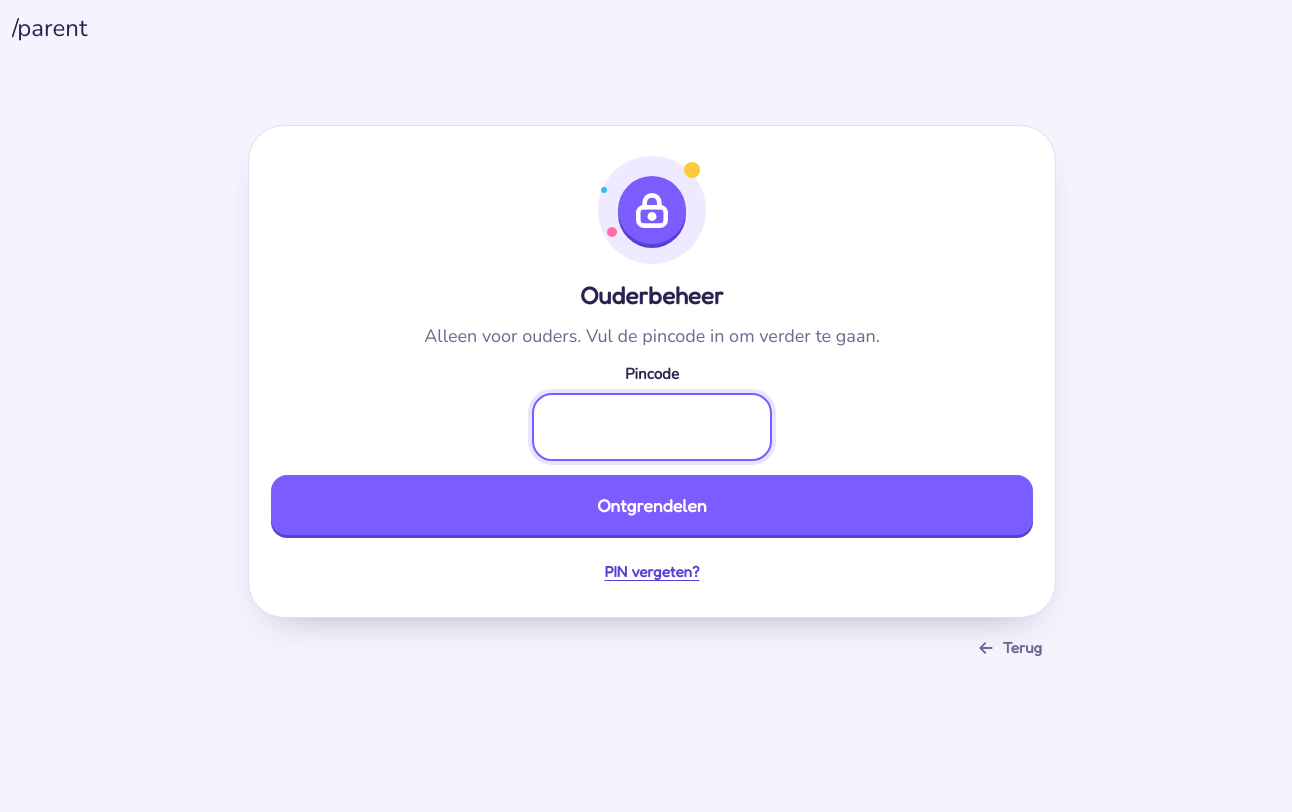
Test case: ouderslot › vraagt om de PIN van de meegegeven opslag en ontgrendelt met de juiste
The width and height of the screenshot is (1292, 812).
Type "1111" into the password field labelled "Pincode" at (652, 428), box [532,394,772,462]
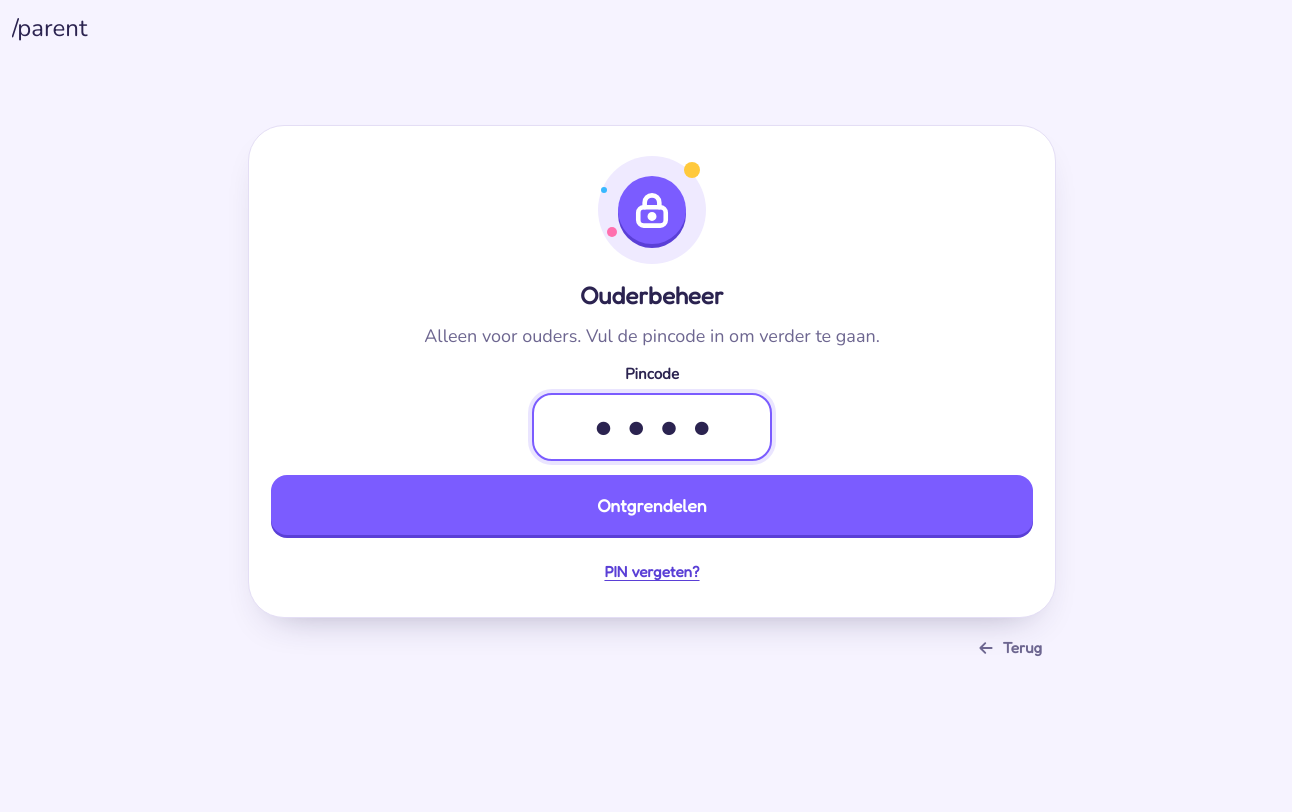
Click the button "Ontgrendelen" at (652, 506), box [271,476,1033,536]
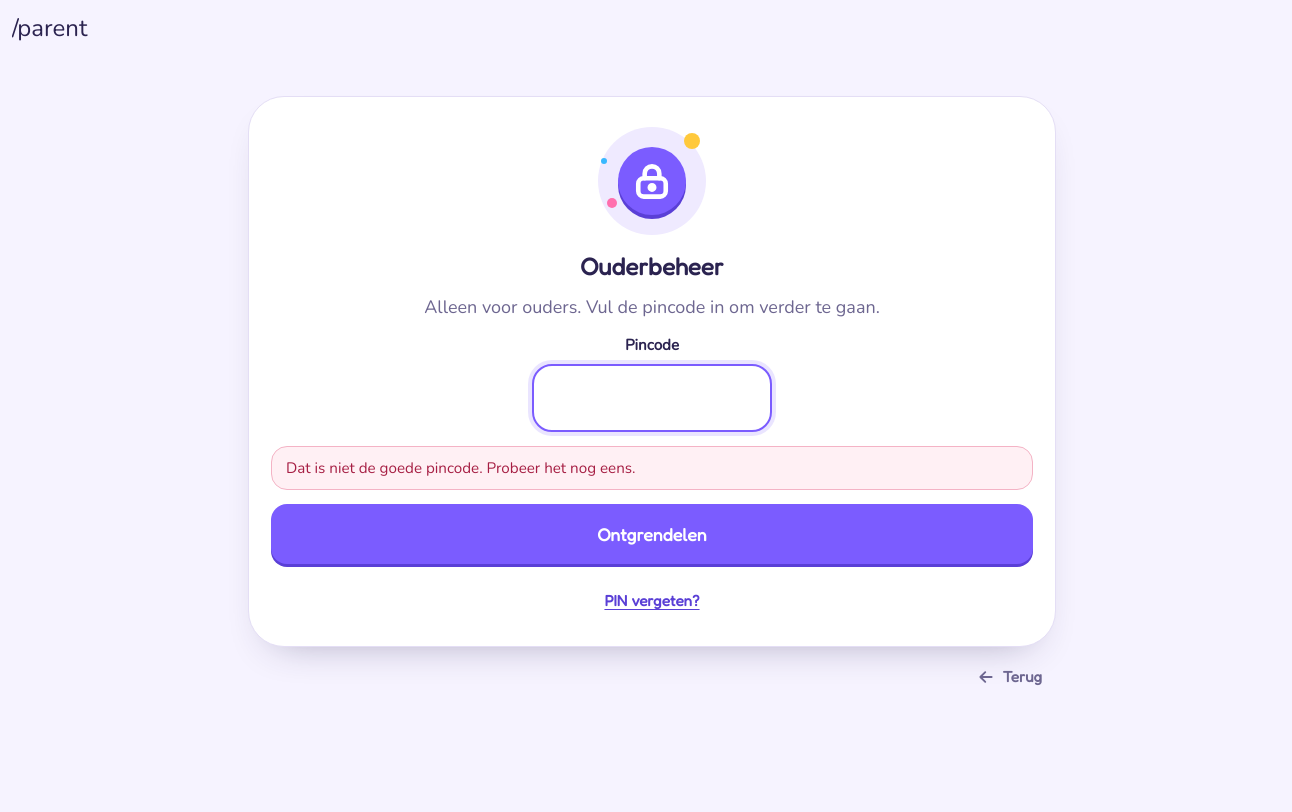
Expected: the button "Kleding toevoegen" is not shown
Result: the text "Dat is niet de goede pincode. Probeer het nog eens." is shown at [271,446,1033,490]
Type "2580" into the password field labelled "Pincode" at (652, 398), box [532,364,772,432]
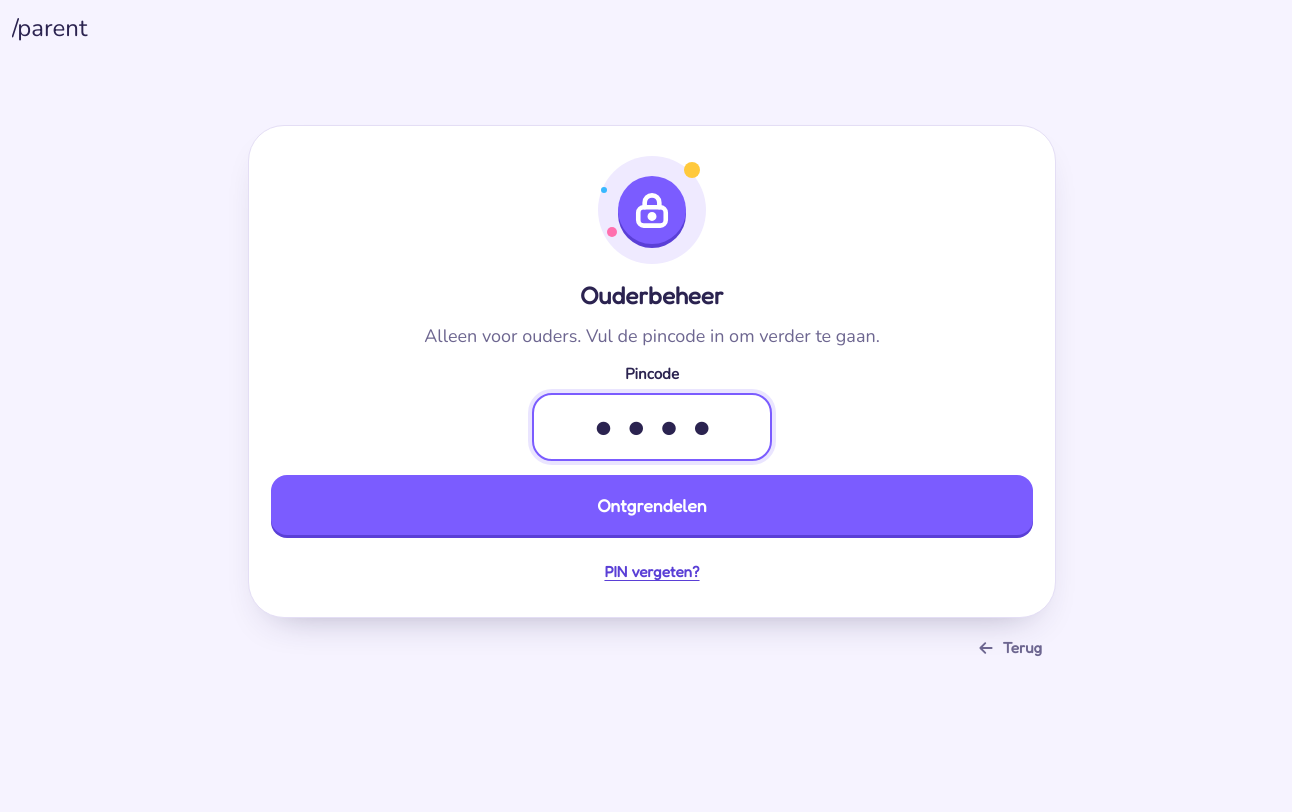
Click the button "Ontgrendelen" at (652, 506), box [271,476,1033,536]
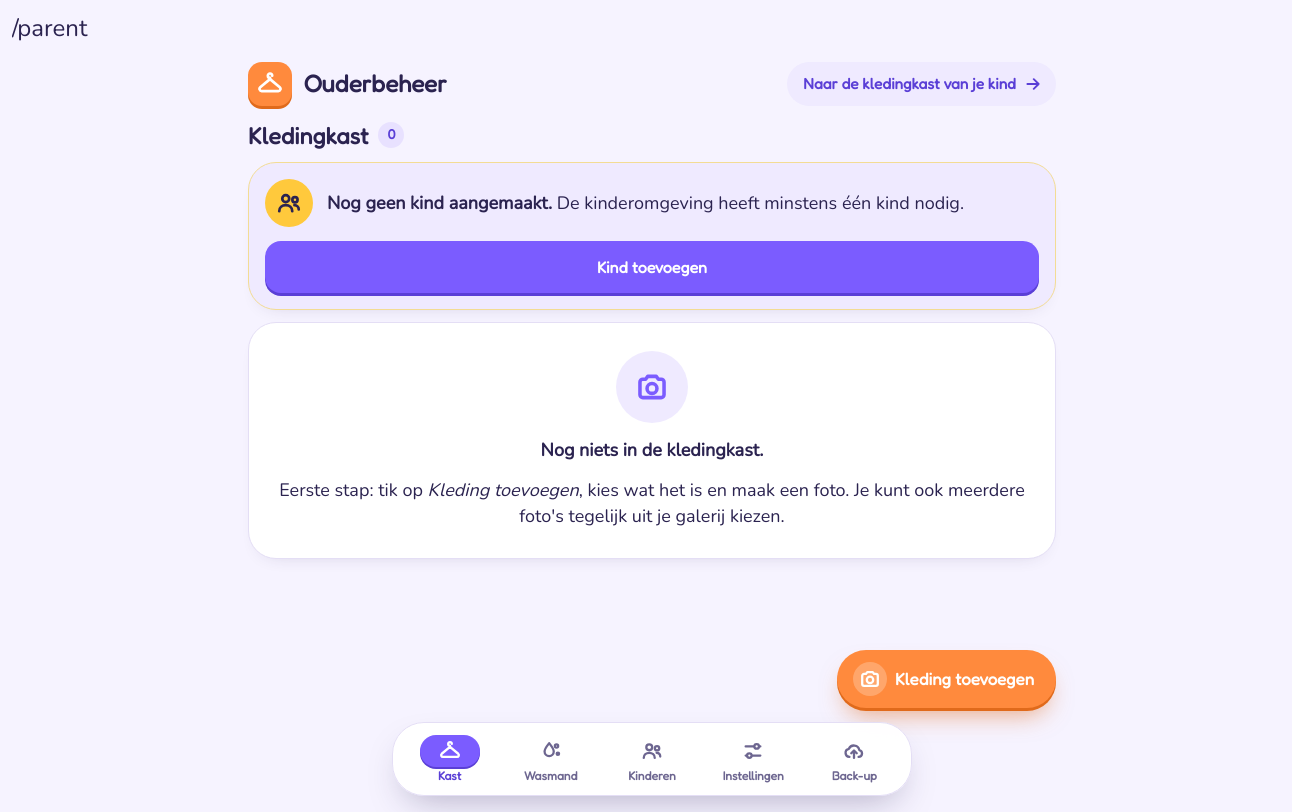
Result: the button "Kleding toevoegen" is shown at [837,650,1056,708]
